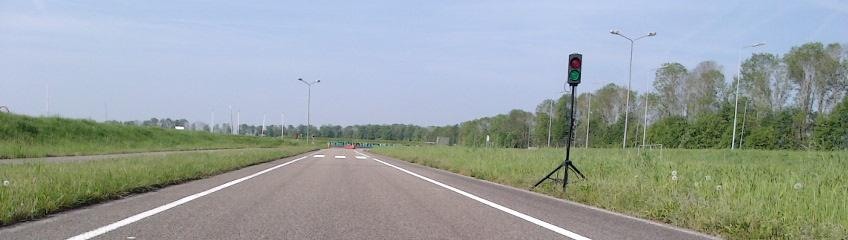TrafficLight-green: (568, 54, 582, 83)
